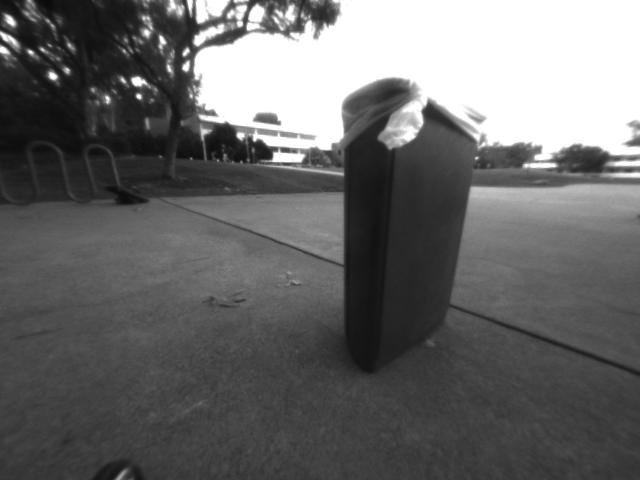trashcan_open: (338, 72, 491, 387)
